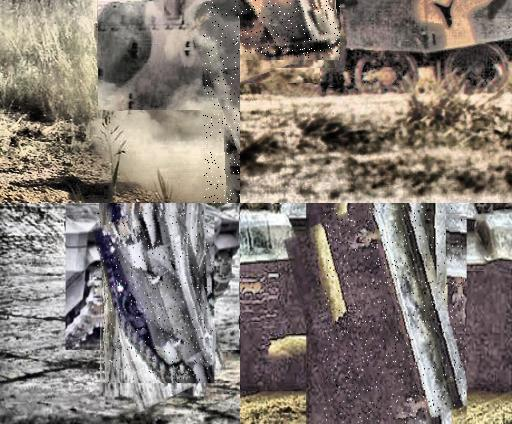tanks: (325, 208, 468, 424), (98, 209, 215, 384), (346, 1, 512, 91), (241, 1, 341, 60)
